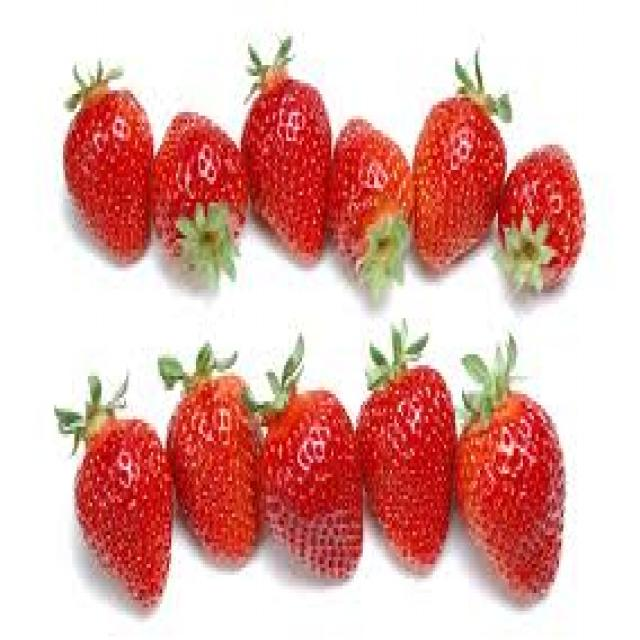strawberry: (453, 373, 572, 611), (70, 398, 178, 614), (261, 376, 363, 589), (367, 340, 453, 582), (61, 65, 153, 268), (182, 347, 262, 575), (248, 54, 329, 268), (156, 105, 244, 289), (422, 90, 502, 282), (336, 112, 414, 297), (500, 141, 588, 300)
